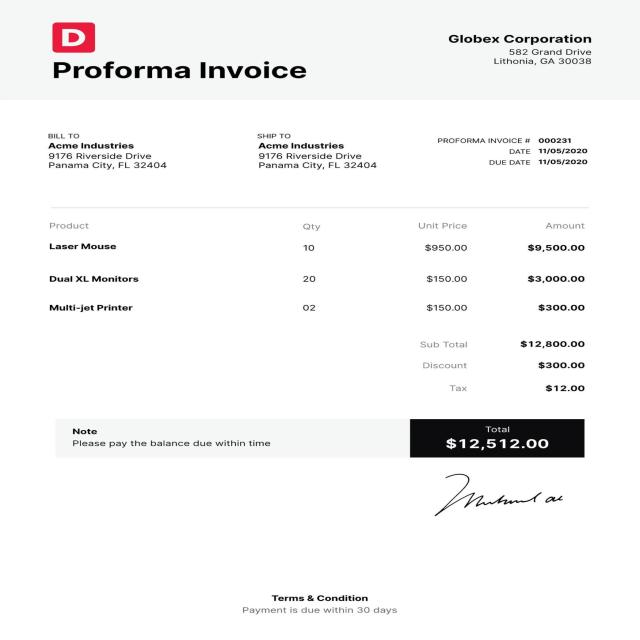paragraph: (408, 331, 598, 399), (52, 57, 316, 87), (434, 133, 616, 176), (428, 469, 574, 521), (245, 127, 388, 175), (43, 128, 176, 175), (442, 29, 600, 66), (68, 426, 277, 450), (233, 593, 405, 621), (429, 422, 561, 451), (58, 29, 91, 48)
table: (42, 213, 612, 317)
